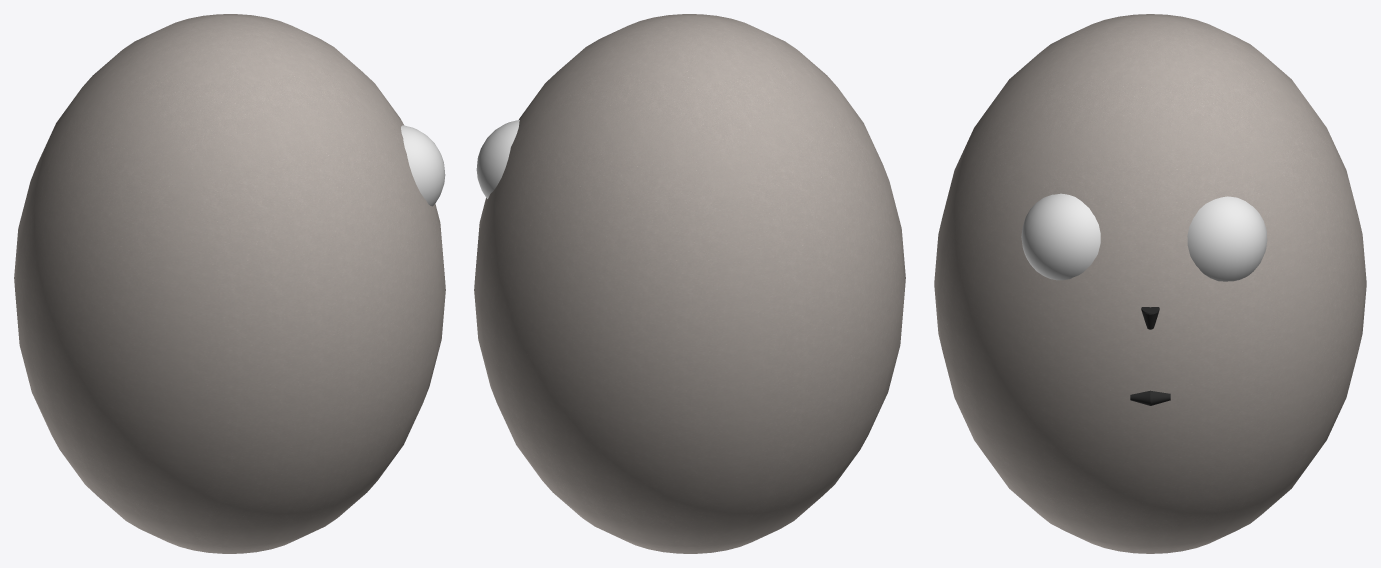
File: egg NULL.fbx
The picture shows the model from 3 angles, left to right: view 1: azimuth 30°, elevation 25°; view 2: azimuth 150°, elevation 25°; view 3: azimuth 270°, elevation 25°; orthographic projection.
Visible parts, largest first — view 1: Sphere, Sphere.001; view 2: Sphere, Sphere.002; view 3: Sphere, Sphere.001, Sphere.002.
Part boxes in pixels (left/top/right/bottom): Sphere: left=14, top=14, right=445, bottom=553; Sphere.001: left=401, top=125, right=445, bottom=206; Sphere: left=474, top=14, right=905, bottom=553; Sphere.002: left=476, top=120, right=519, bottom=198; Sphere: left=934, top=14, right=1366, bottom=553; Sphere.001: left=1021, top=193, right=1100, bottom=280; Sphere.002: left=1187, top=196, right=1267, bottom=281.
Size of the model in its own units: 893 by 1142 by 880.
2 materials, 1 textured.
